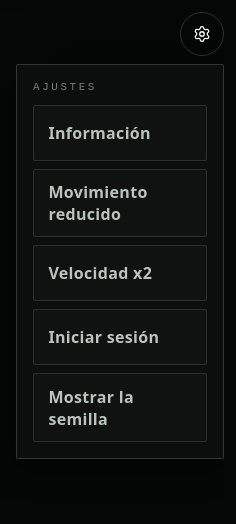
Test: SettingsMenu › vuelve a esconderla con el mismo botón
Click the button "Mostrar la semilla": (120, 408) x1=33 y1=373 x2=207 y2=442
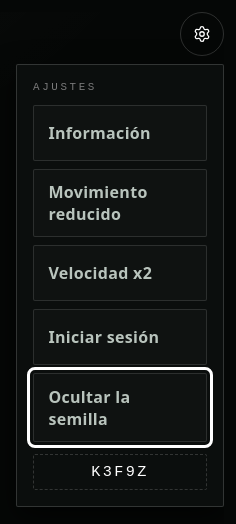
Click the button "Ocultar la semilla": (120, 408) x1=33 y1=373 x2=207 y2=442
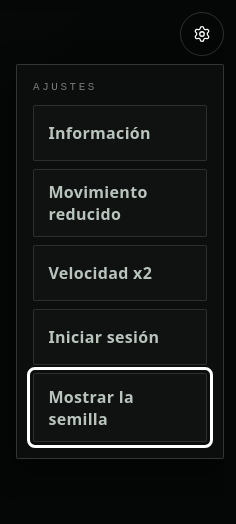
expect the text "K3F9Z" is gone: met
